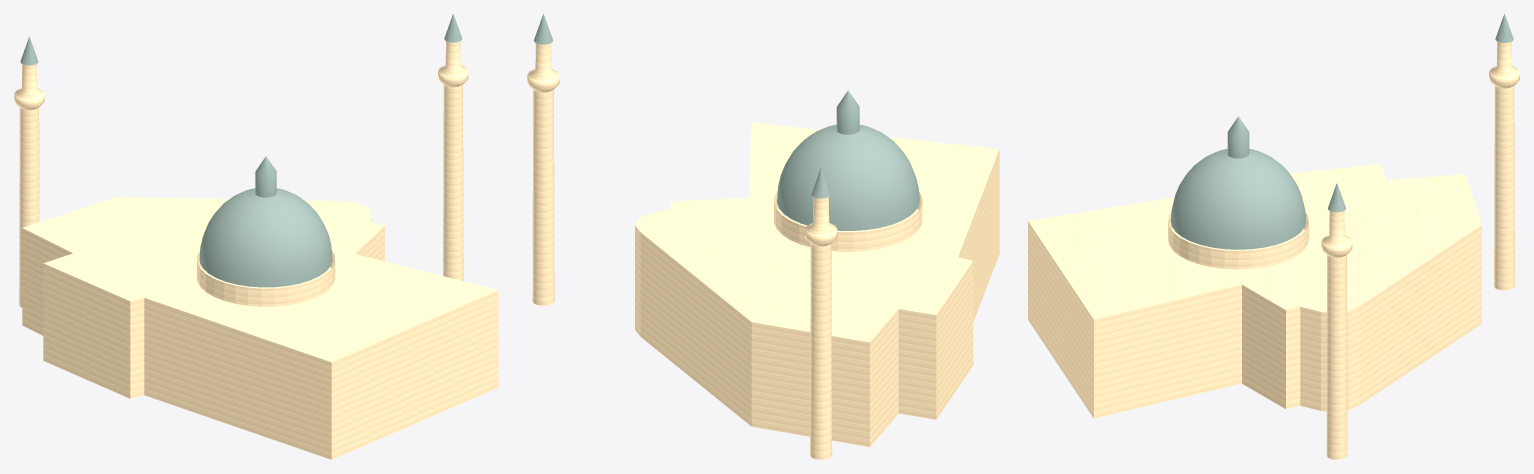
Rendered from landmark-sahib-az-zaman-mosque.glb.
The picture shows the model from 3 angles, left to right: view 1: azimuth 30°, elevation 25°; view 2: azimuth 150°, elevation 25°; view 3: azimuth 270°, elevation 25°; orthographic projection. The views are drawn at different scales.
Parts seen in each view (by area): view 1: sahib-az-zaman-mosque; view 2: sahib-az-zaman-mosque; view 3: sahib-az-zaman-mosque.
Boxes of the visible parts, bbox=[...] form: sahib-az-zaman-mosque: bbox=[14, 14, 498, 459]; sahib-az-zaman-mosque: bbox=[527, 14, 999, 459]; sahib-az-zaman-mosque: bbox=[1028, 14, 1519, 459].
Bounding box in the file's own units: 76.46 × 48.76 × 79.86.
2 materials, 1 textured.
